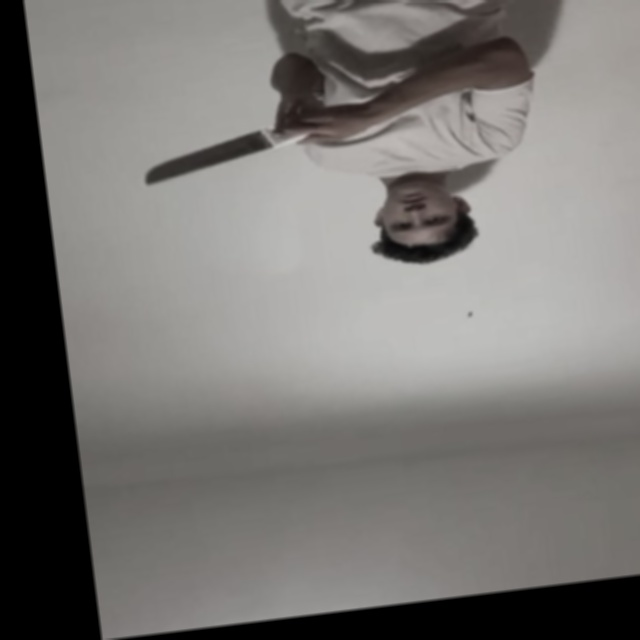Sharp-Object: (142, 130, 268, 187)
